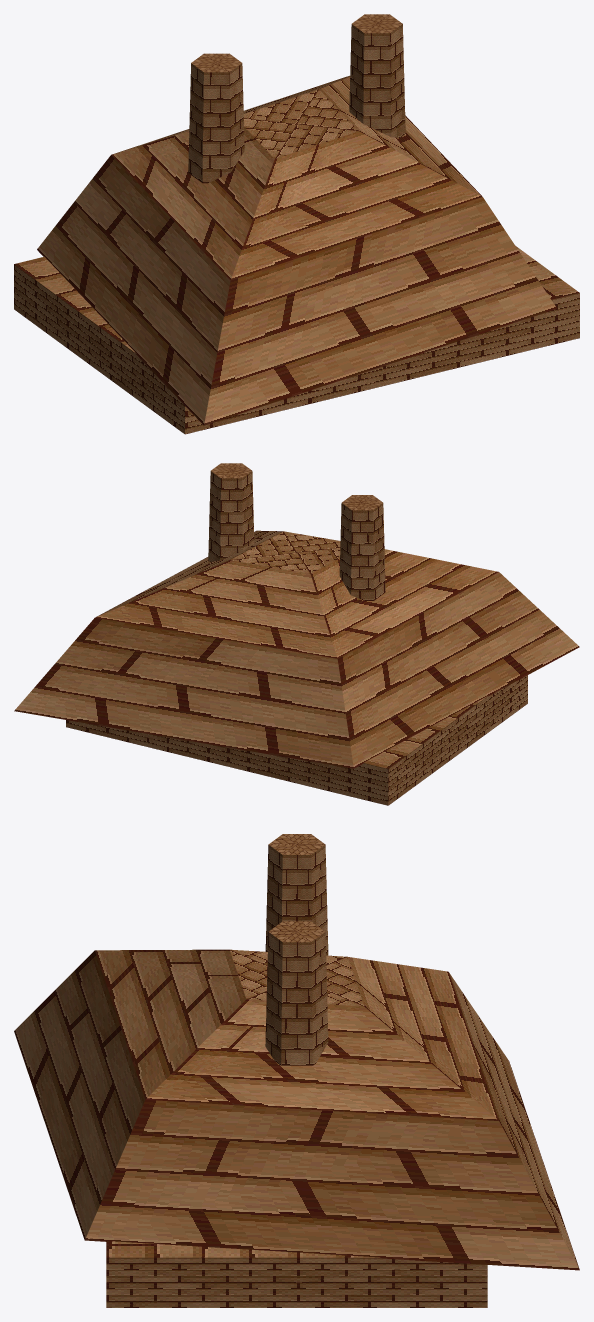
Rendered from telhado_08_carpintaria.glb.
3 renders of one model, top to bottom at view 1: azimuth 30°, elevation 25°; view 2: azimuth 150°, elevation 25°; view 3: azimuth 270°, elevation 25°, orthographic. The views are drawn at different scales.
Parts seen in each view (by area): view 1: telhado_08_carpintaria; view 2: telhado_08_carpintaria; view 3: telhado_08_carpintaria.
Part boxes in pixels (x1,y1,x2,y2): telhado_08_carpintaria: (14,14,579,434); telhado_08_carpintaria: (14,463,579,805); telhado_08_carpintaria: (14,834,579,1307).
Bounding box in the file's own units: 3.56 × 2.17 × 3.56.
Materials: 1 (1 with a texture image).
